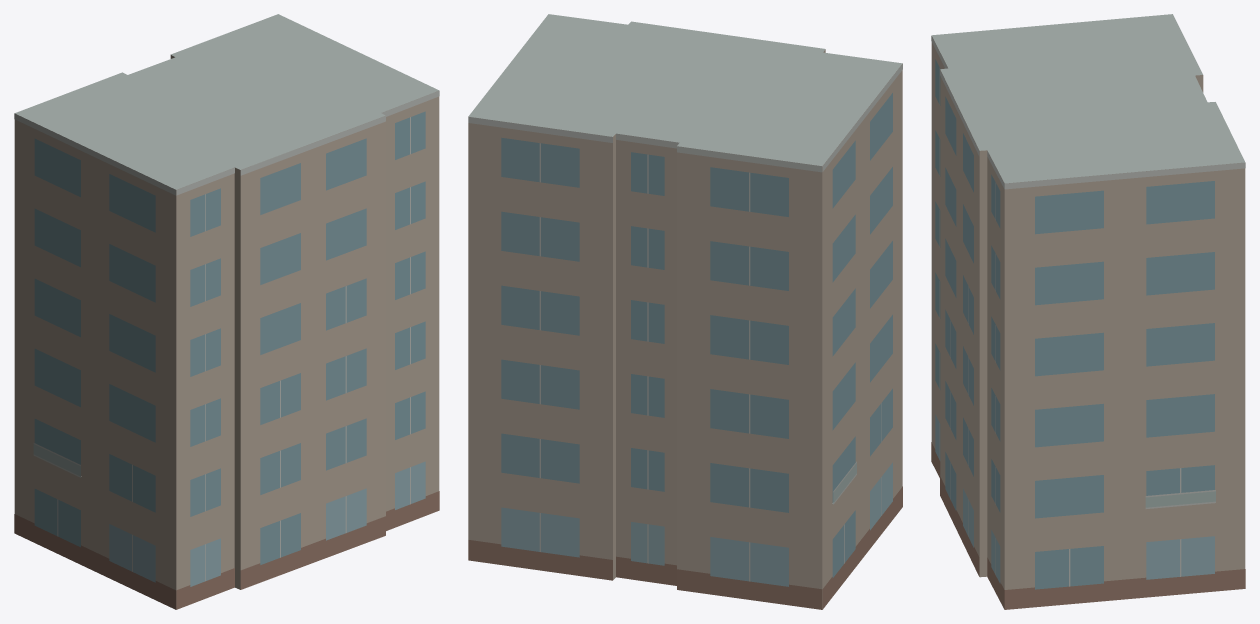
Rendered from survey-upis-33036341.glb.
3 views of the same model, side by side, from view 1: azimuth 30°, elevation 25°; view 2: azimuth 150°, elevation 25°; view 3: azimuth 270°, elevation 25° (orthographic). The views are drawn at different scales.
Parts seen in each view (by area): view 1: survey-upis-33036341.tmp; view 2: survey-upis-33036341.tmp; view 3: survey-upis-33036341.tmp.
Boxes of the visible parts, bbox=[...] form: survey-upis-33036341.tmp: bbox=[14, 14, 439, 609]; survey-upis-33036341.tmp: bbox=[468, 14, 902, 609]; survey-upis-33036341.tmp: bbox=[931, 14, 1245, 609].
Bounding box in the file's own units: 14.84 × 17.4 × 11.62.
